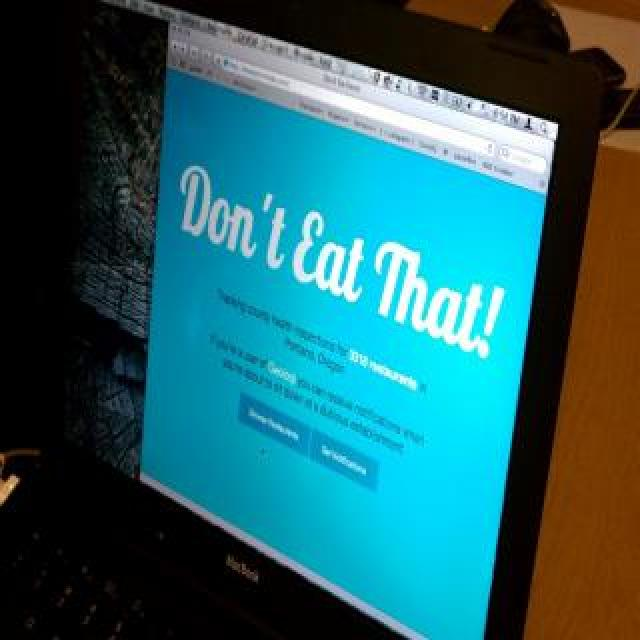laptop_computer: (14, 0, 612, 623)
